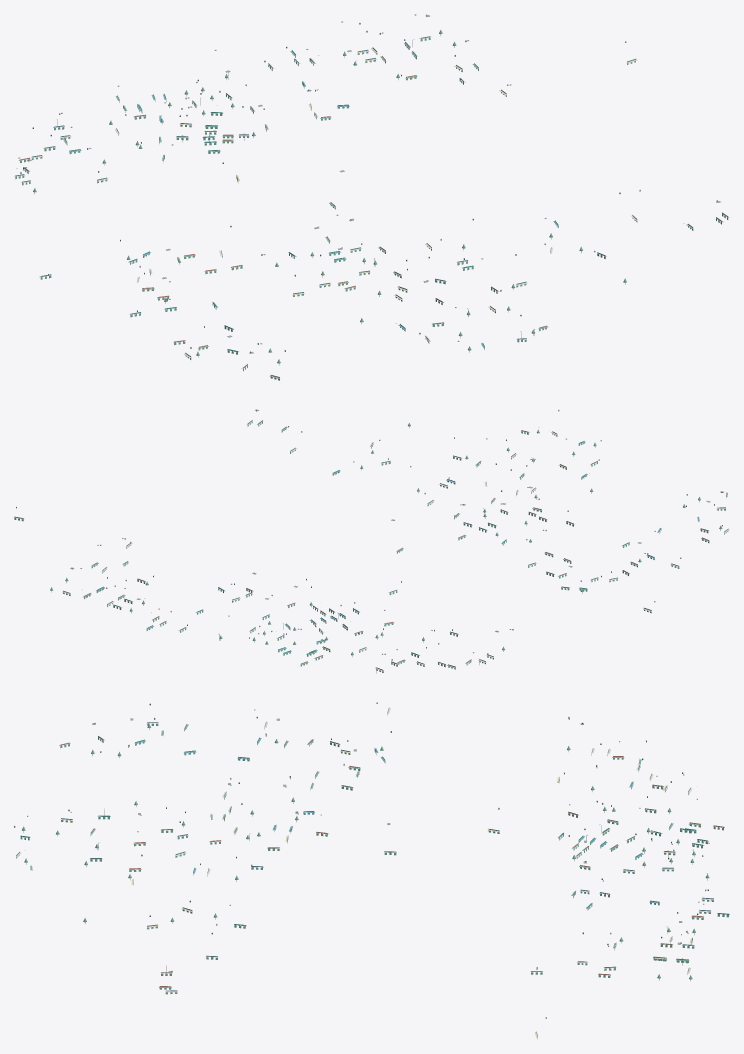
The picture shows the model from 3 angles, top to bottom: view 1: azimuth 30°, elevation 25°; view 2: azimuth 150°, elevation 25°; view 3: azimuth 270°, elevation 25°; orthographic projection. The views are drawn at different scales.
Parts seen in each view (by area): view 1: Station neighborhood architectural details; view 2: Station neighborhood architectural details; view 3: Station neighborhood architectural details.
Part boxes in pixels (x1,y1,x2,y2): Station neighborhood architectural details: [14, 14, 729, 380]; Station neighborhood architectural details: [14, 409, 729, 673]; Station neighborhood architectural details: [14, 702, 729, 1038].
Size of the model in its own units: 669 by 33.9 by 614.
